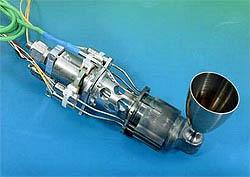thruster: (185, 71, 242, 136)
